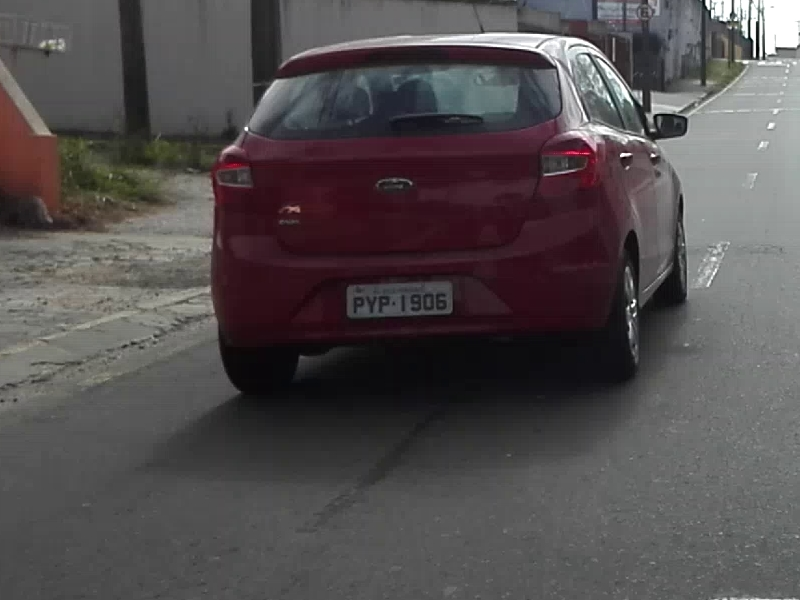placa: (347, 282, 453, 318)
